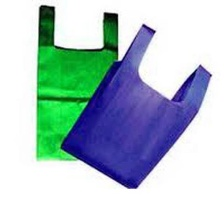plastic_bag: (53, 19, 212, 191), (22, 2, 126, 169)
